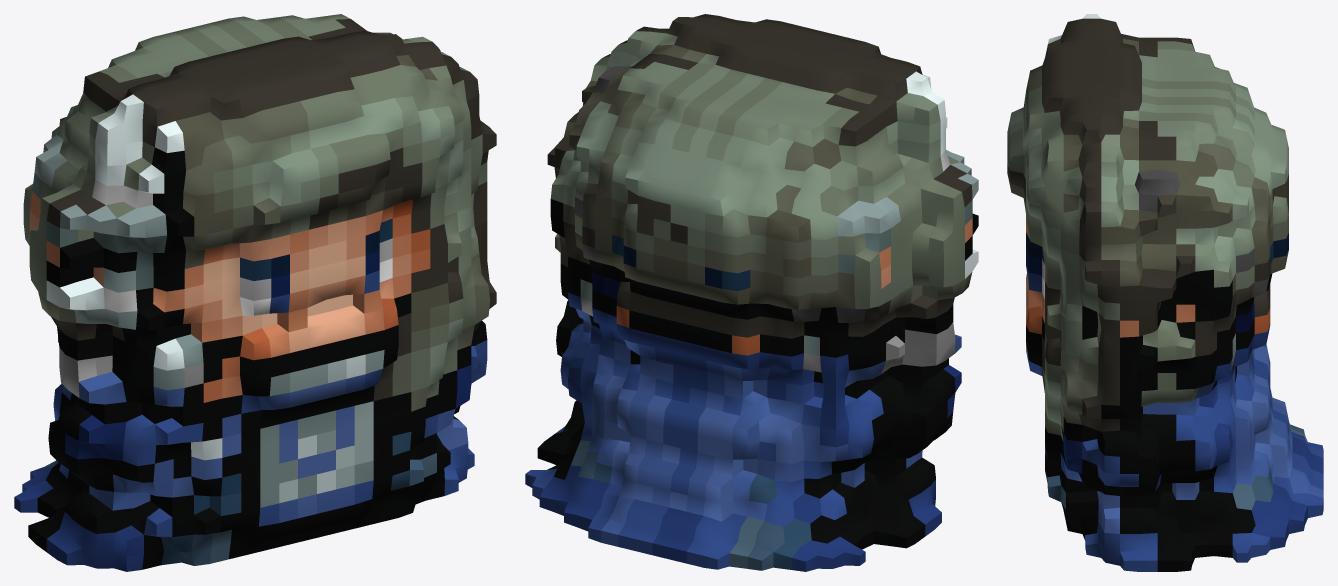
Rendered from Icon_011_03.obj.
3 renders of one model, left to right at view 1: azimuth 30°, elevation 25°; view 2: azimuth 150°, elevation 25°; view 3: azimuth 270°, elevation 25°, orthographic. The views are drawn at different scales.
Bounding box in the file's own units: 2.3 × 2.4 × 1.68.
1 material, 1 textured.
